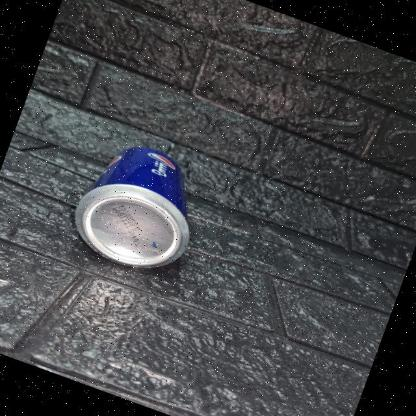Can: (53, 127, 220, 289)
